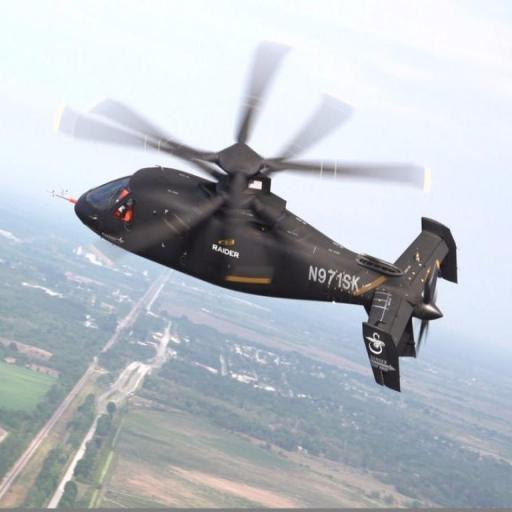helicopter: (57, 45, 473, 398)
